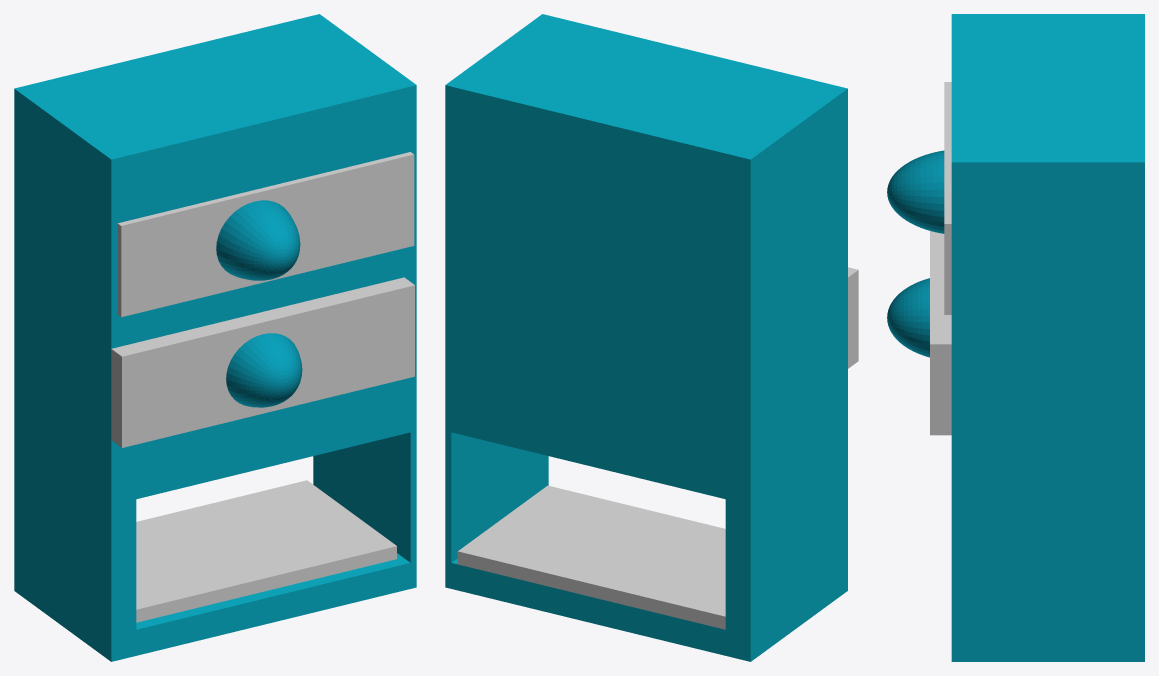
The model's file is Smooth Kieran-Snicket.glb.
3 renders of one model, left to right at view 1: azimuth 30°, elevation 25°; view 2: azimuth 150°, elevation 25°; view 3: azimuth 270°, elevation 25°, orthographic.
Parts seen in each view (by area): view 1: Mesh_Mesh_head_geo.001_lambert2SG.001; view 2: Mesh_Mesh_head_geo.001_lambert2SG.001; view 3: Mesh_Mesh_head_geo.001_lambert2SG.001.
Boxes of the visible parts, left/top/right/bottom form: Mesh_Mesh_head_geo.001_lambert2SG.001: left=14, top=14, right=416, bottom=661; Mesh_Mesh_head_geo.001_lambert2SG.001: left=445, top=14, right=858, bottom=661; Mesh_Mesh_head_geo.001_lambert2SG.001: left=887, top=14, right=1144, bottom=661.
Bounding box in the file's own units: 49 × 77 × 36.
